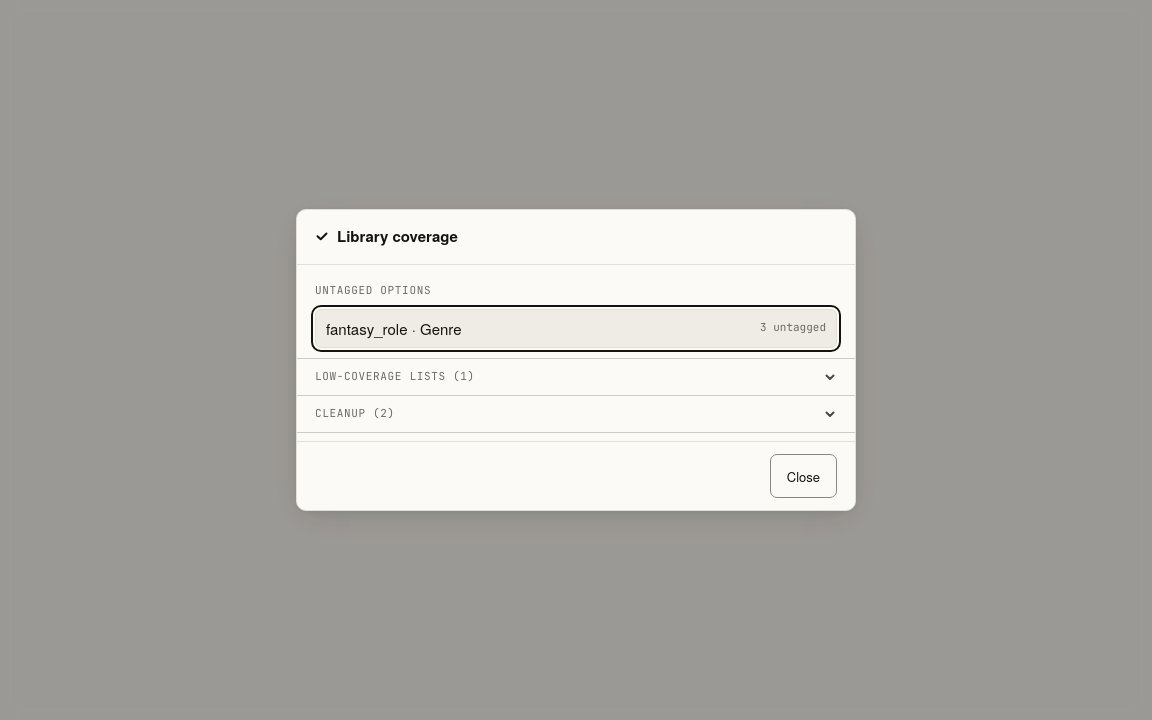
Scenario: CoverageCard › expanding cleanup reveals orphan + missing entries
Step 1. Click the button "Cleanup (2)" → (348, 413), box [297, 396, 855, 432]
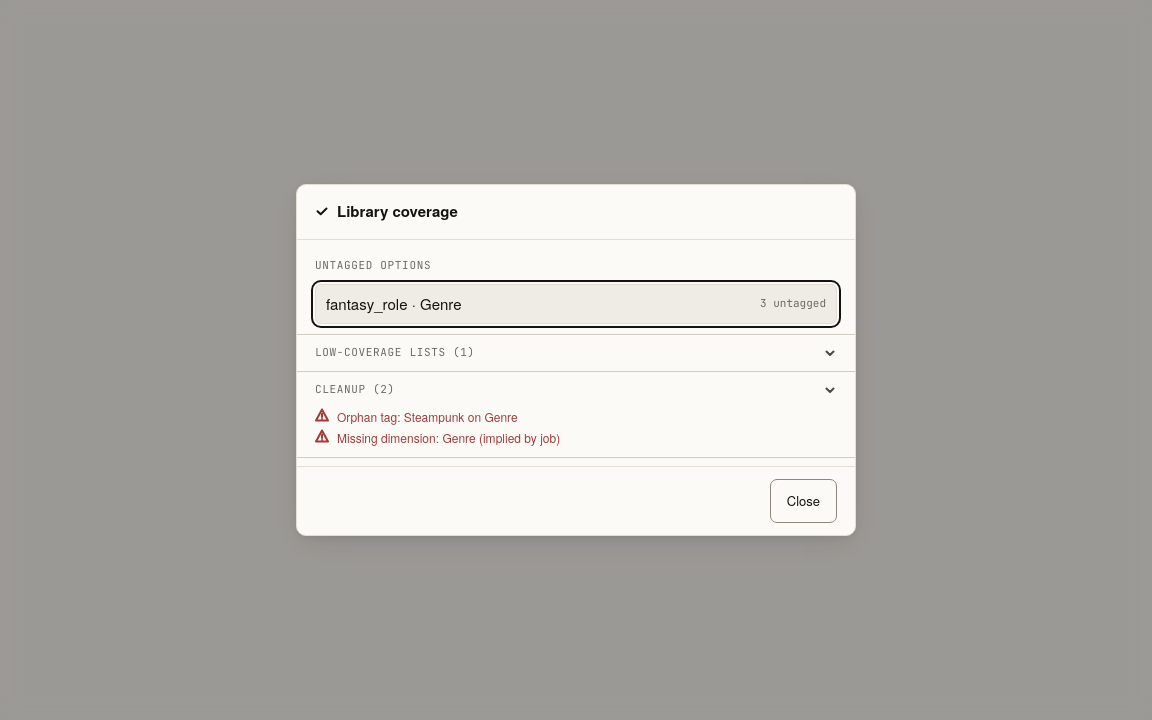
Expected: the text "Orphan tag: Steampunk on Genre" is shown, [315, 408, 518, 425]
Expected: the text "Missing dimension: Genre (implied by job)" is shown, [315, 429, 560, 446]
